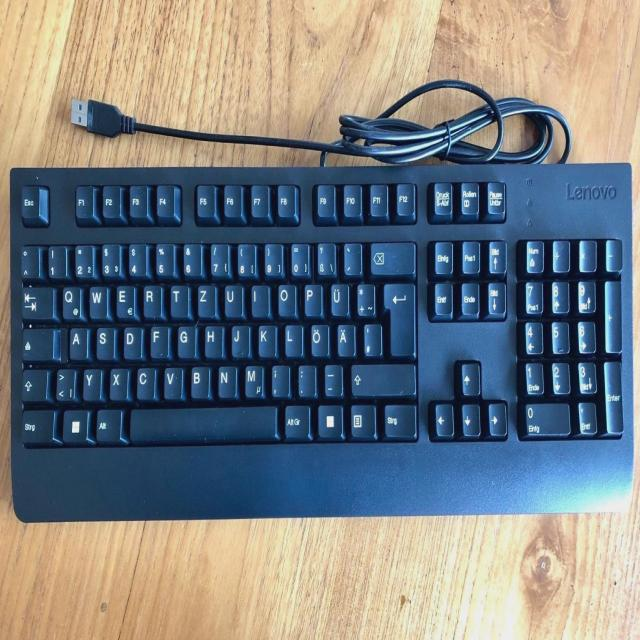0: (289, 239, 309, 275)
1: (46, 242, 66, 277)
2: (73, 241, 93, 277)
3: (100, 240, 120, 277)
4: (126, 240, 146, 276)
5: (153, 239, 173, 275)
6: (181, 240, 201, 276)
7: (209, 240, 229, 276)
8: (235, 240, 255, 276)
9: (262, 239, 282, 276)
a: (67, 323, 86, 358)
accent: (341, 239, 361, 273)
ae: (335, 320, 353, 354)
alt-left: (94, 406, 120, 440)
altgr-right: (282, 401, 308, 437)
b: (188, 363, 208, 396)
c: (134, 363, 154, 397)
caret: (19, 243, 39, 277)
comma: (269, 362, 289, 396)
d: (121, 323, 140, 358)
del: (367, 238, 414, 274)
e: (114, 281, 133, 317)
enter: (382, 279, 414, 355)
f: (148, 322, 167, 356)
g: (176, 322, 195, 356)
h: (202, 322, 222, 356)
hash: (361, 320, 380, 354)
i: (249, 281, 267, 315)
j: (230, 322, 248, 356)
k: (257, 321, 275, 355)
keyboard: (8, 156, 634, 464)
l: (282, 321, 301, 355)
less: (54, 365, 74, 400)
m: (242, 362, 262, 396)
minus: (323, 361, 341, 395)
n: (216, 362, 236, 396)
o: (275, 280, 295, 314)
oe: (309, 320, 328, 355)
p: (302, 280, 320, 314)
plus: (354, 279, 373, 315)
point: (295, 362, 315, 396)
q: (60, 283, 80, 318)
r: (141, 281, 161, 315)
s: (94, 323, 114, 358)
shift-left: (19, 366, 46, 399)
shift-lock: (20, 325, 54, 360)
shift-right: (349, 360, 414, 394)
space: (127, 403, 277, 441)
ss: (314, 239, 334, 275)
strg-left: (18, 406, 53, 442)
strg-right: (381, 401, 416, 436)
t: (169, 281, 187, 315)
tab: (20, 284, 53, 318)
u: (222, 281, 242, 315)
ue: (329, 279, 347, 314)
v: (161, 363, 181, 397)
w: (87, 281, 107, 317)
x: (108, 364, 127, 398)
y: (81, 364, 100, 398)
z: (195, 281, 214, 315)
